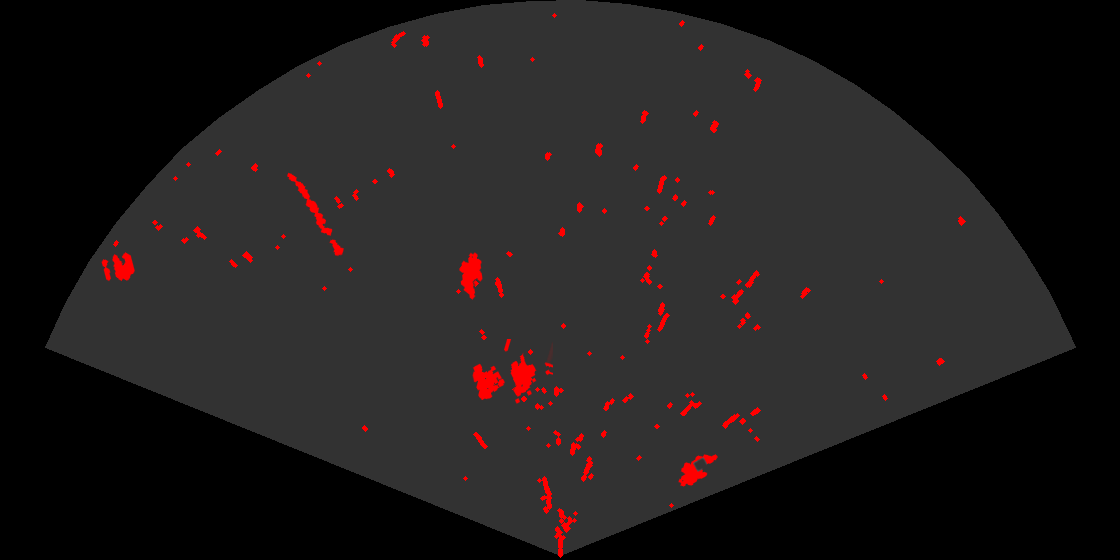AUV: (677, 453, 719, 488), (458, 251, 484, 301)
ball: (100, 251, 136, 283)
cage: (471, 339, 553, 405)
chain: (285, 171, 345, 258)
